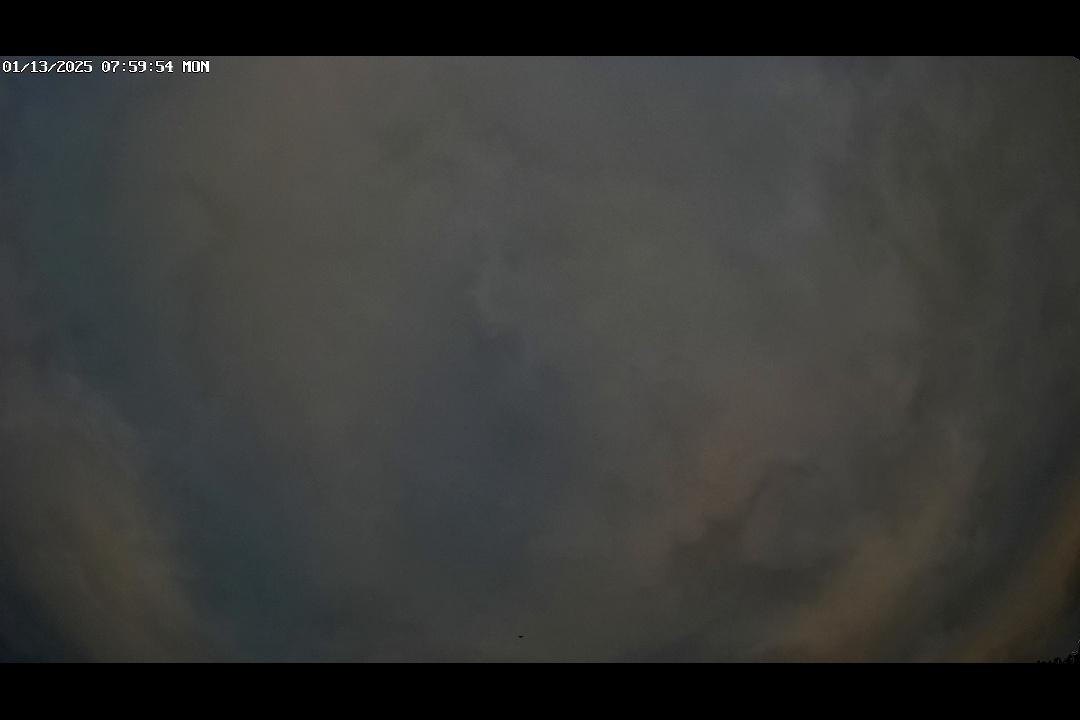WildLife: (512, 630, 529, 644)
